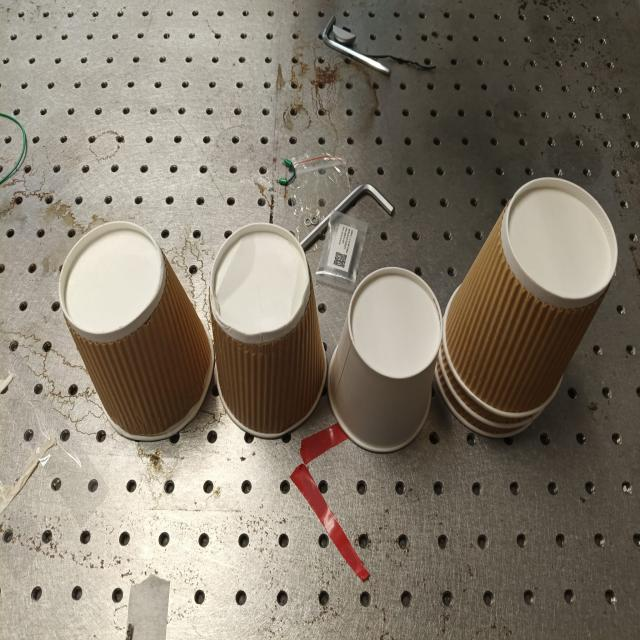Browncup: (444, 178, 617, 412), (59, 221, 214, 440), (209, 223, 326, 437), (438, 347, 539, 430), (437, 371, 530, 438)
Whitecup: (328, 267, 442, 452)
